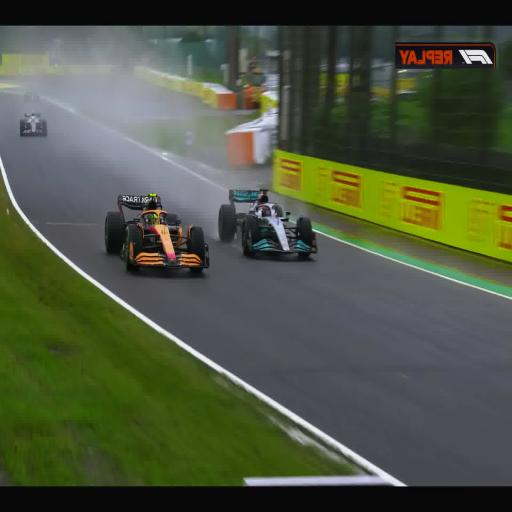f1_car: (105, 193, 210, 273), (219, 188, 317, 258), (20, 112, 47, 136)
